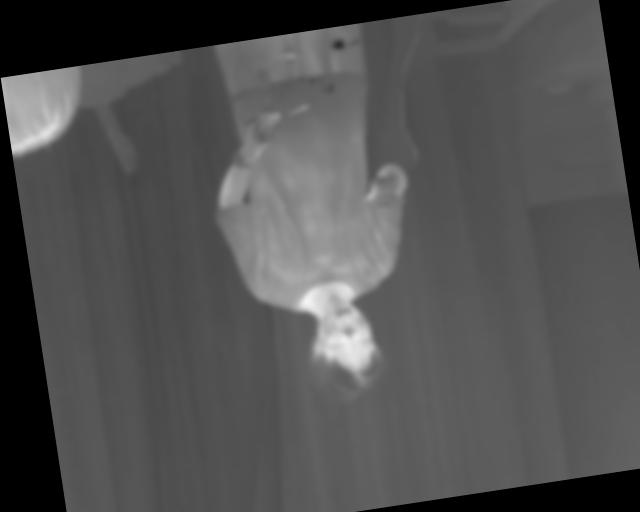face: (302, 290, 388, 404)
